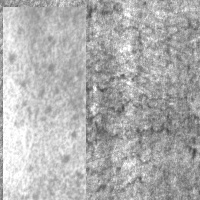crazing: (9, 72, 200, 149), (31, 111, 163, 192), (48, 1, 199, 61)
pitted_surface: (3, 7, 86, 200)
